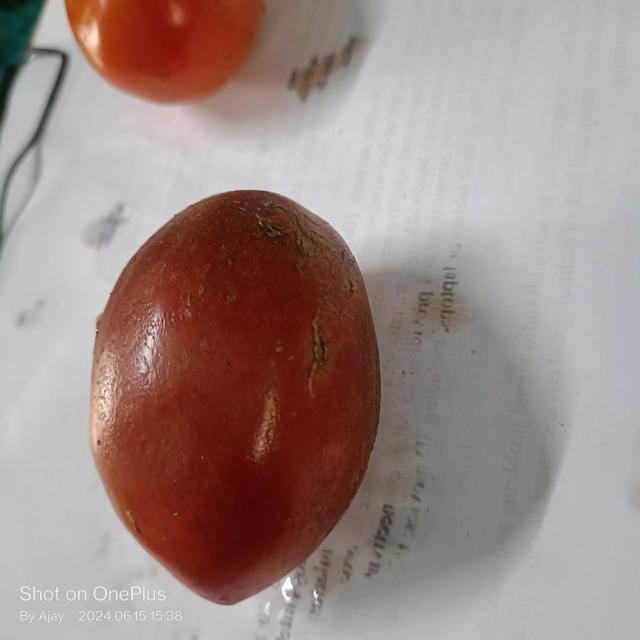Botrytis: (307, 303, 327, 399), (250, 198, 287, 238)
